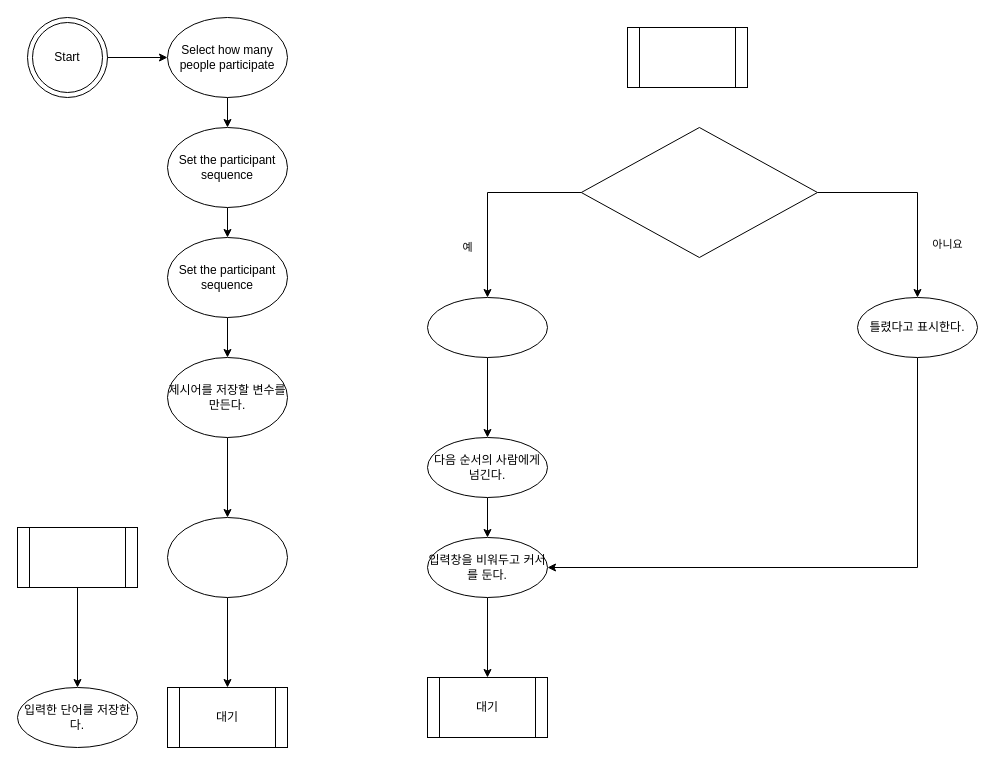
This 995x765 diagram has some shape labels left out. Here are the shapes that lost their labels. From the top down, the centre of each, then its label:
the point at 687,57: 입력 버튼 클릭
the point at 699,192: 글자가 세글자이면서 입력한 변수가 비어있지 않거나 올바른 단어인가?
the point at 487,327: 입력한 단어가 제시어가 된다.
the point at 77,557: 단어입력
the point at 227,557: 입력한 변수를 저장할 변수를 만든다.
